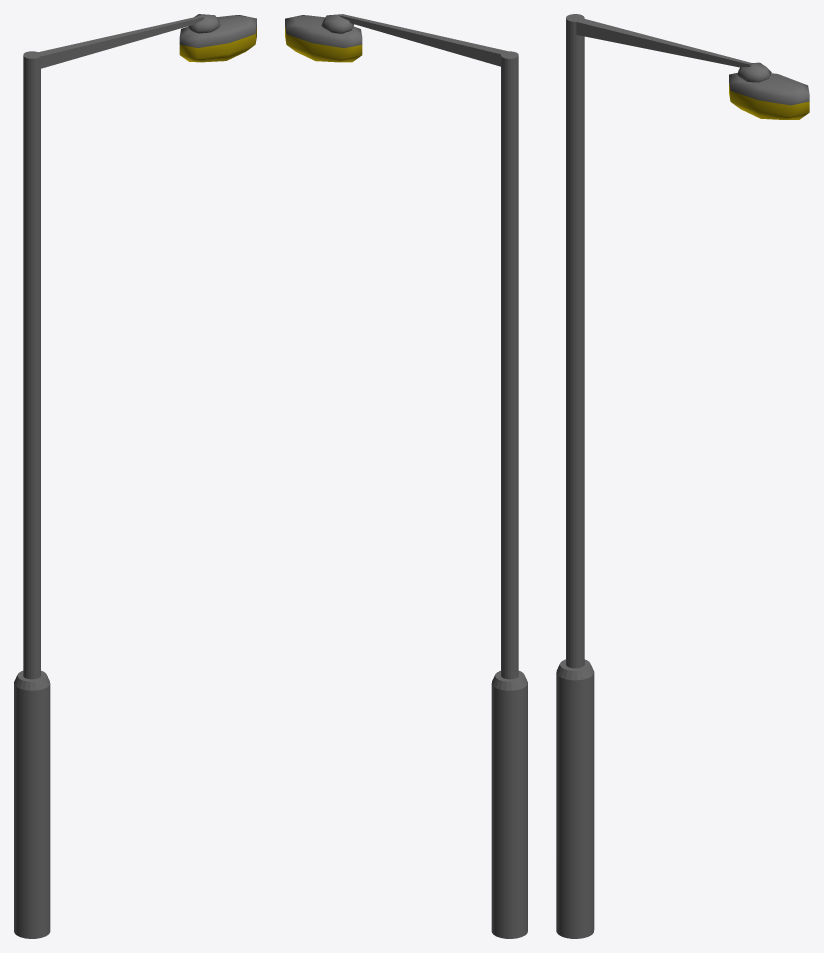
Rendered from lampost.fbx.
3 views of the same model, side by side, from view 1: azimuth 30°, elevation 25°; view 2: azimuth 150°, elevation 25°; view 3: azimuth 330°, elevation 25° (orthographic). The views are drawn at different scales.
Visible parts, largest first — view 1: pCylinder5; view 2: pCylinder5; view 3: pCylinder5.
Boxes of the visible parts, x1,y1,x2,y2 form: pCylinder5: [14, 14, 256, 938]; pCylinder5: [285, 14, 527, 938]; pCylinder5: [556, 14, 809, 938].
Bounding box in the file's own units: 3.11 × 10.83 × 0.4944.
